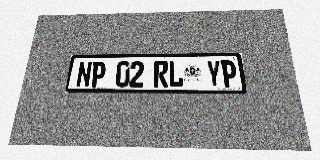0: (115, 61, 130, 87)
2: (129, 61, 144, 87)
L: (169, 60, 183, 87)
N: (76, 61, 92, 87)
P: (221, 60, 238, 87), (90, 61, 106, 87)
R: (154, 61, 168, 87)
Y: (206, 60, 222, 87)
